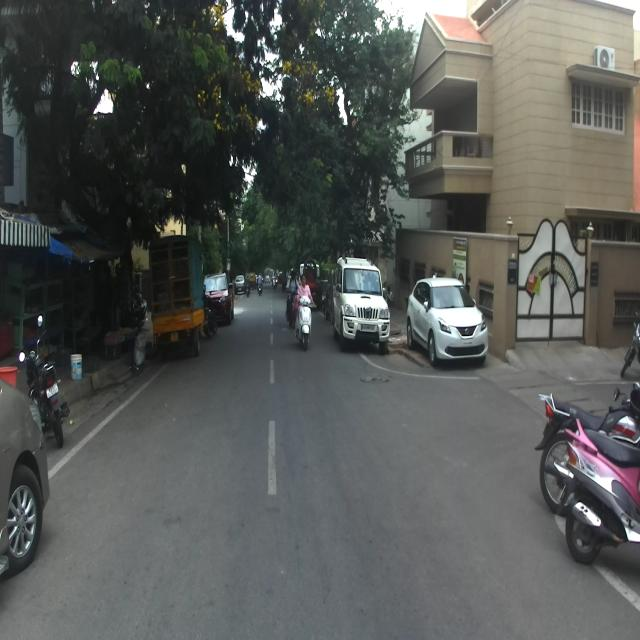auto ahead at: (145, 230, 208, 366)
car ahead at: (407, 274, 488, 366), (336, 251, 390, 348)
motorcycle ahead at: (560, 413, 640, 571), (15, 313, 75, 449), (286, 293, 316, 347)
